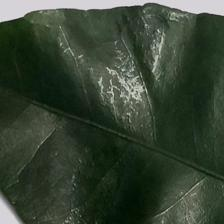healthy: (0, 19, 224, 224)
